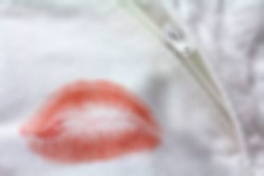lipstick: (27, 81, 163, 161)
